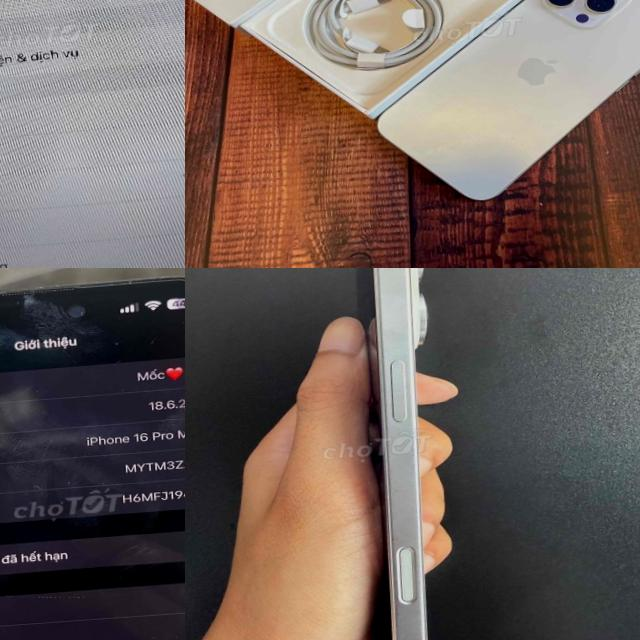gen_11: (0, 0, 185, 268)
gen_15: (361, 0, 640, 211)
gen_16: (0, 268, 185, 640), (356, 268, 427, 640)
